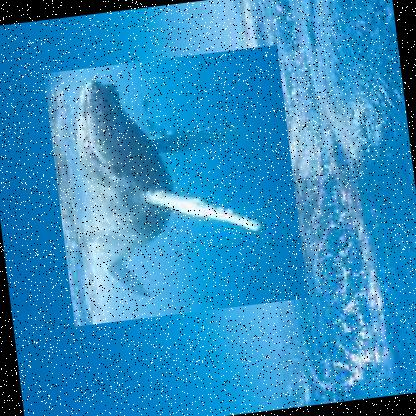blue_whale: (43, 42, 308, 326)
